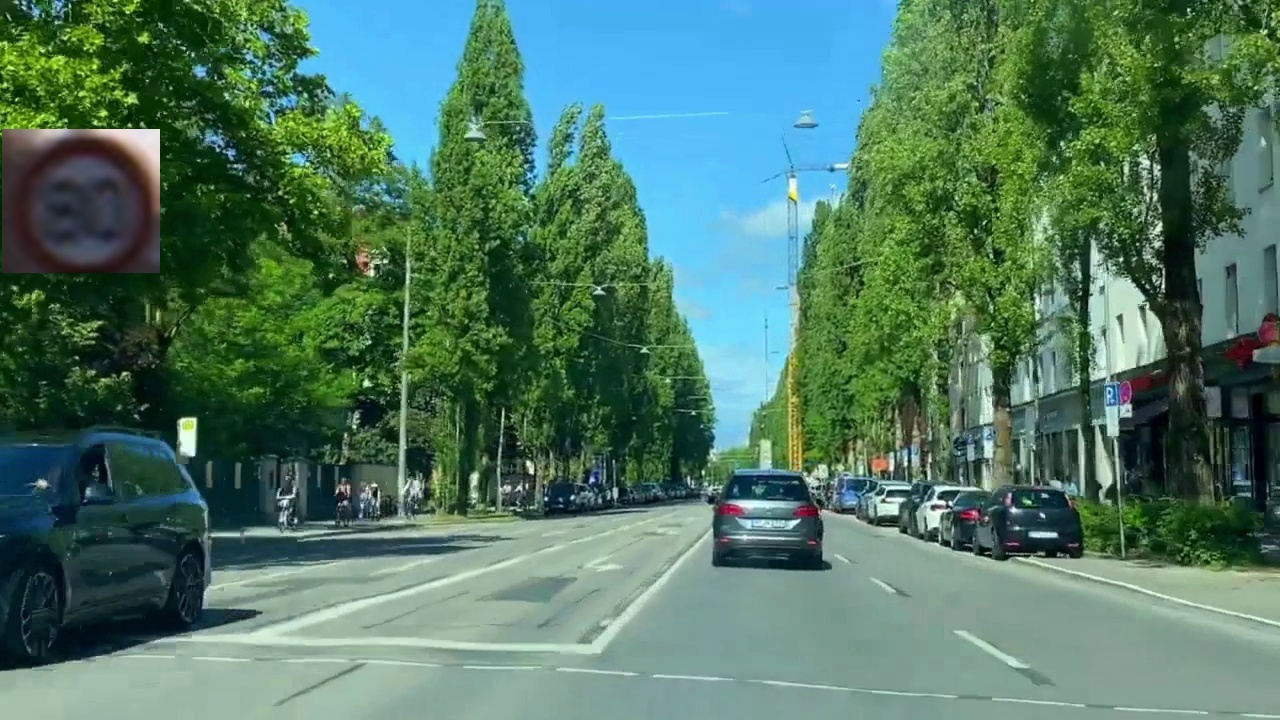Speed 80: (2, 129, 160, 273)
